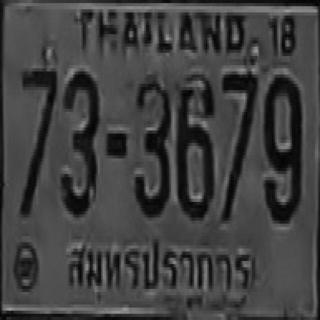N03: (60, 68, 98, 214), (133, 75, 169, 214)
N06: (176, 74, 212, 218)
N07: (18, 65, 56, 214), (220, 68, 256, 218)
N09: (264, 71, 300, 221)
P57: (61, 229, 253, 301)
